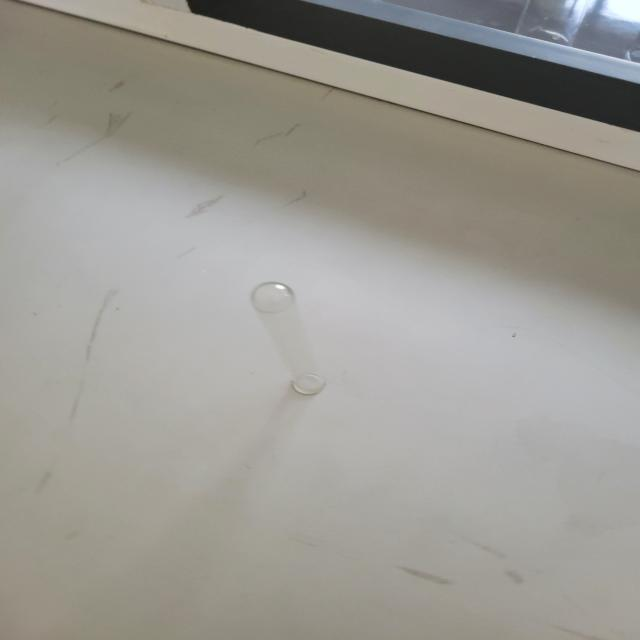Test_Tube: (174, 218, 355, 420)
